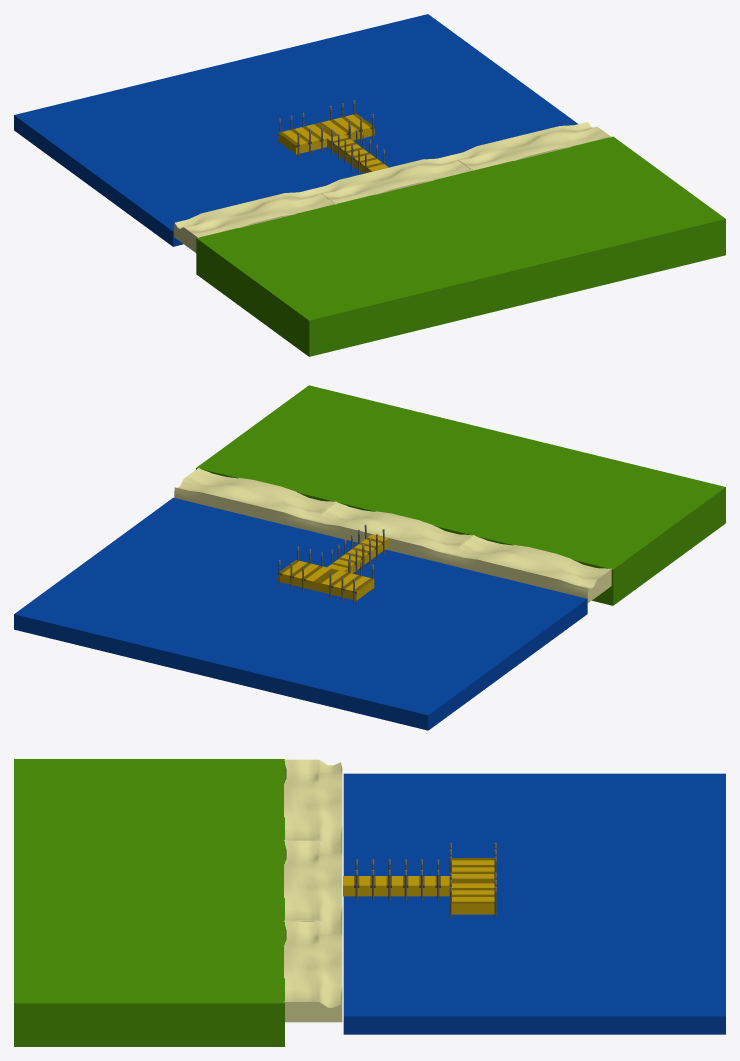
File: DockScene.fbx
3 renders of one model, top to bottom at view 1: azimuth 30°, elevation 25°; view 2: azimuth 150°, elevation 25°; view 3: azimuth 270°, elevation 25°, orthographic. The views are drawn at different scales.
Visible parts, largest first — view 1: Land, Water4, Water2, Water1, Water5, Water3, Water, Sand1, Sand2, Sand, DockBig, Dock; view 2: Land, Water4, Water2, Water1, Water5, Water3, Water, Sand1, Sand2, Sand, DockBig, Dock; view 3: Land, Water3, Water2, Water1, Water5, Water4, Water, Sand2, Sand1, Sand, DockBig, Dock.
Boxes of the visible parts, box(x1,y1,x2,y2) form: Land: box(196, 136, 725, 356); Water4: box(14, 81, 231, 187); Water2: box(290, 14, 507, 105); Water1: box(152, 48, 368, 139); Water5: box(93, 139, 302, 246); Water3: box(370, 72, 577, 157); Water: box(232, 106, 439, 191); Sand1: box(174, 189, 336, 252); Sand2: box(450, 122, 611, 170); Sand: box(313, 155, 473, 203); DockBig: box(278, 113, 374, 154); Dock: box(327, 134, 388, 173); Land: box(196, 385, 725, 605); Water4: box(290, 623, 507, 730); Water2: box(14, 556, 231, 662); Water1: box(152, 590, 369, 696); Water5: box(370, 565, 587, 671); Water3: box(94, 497, 310, 589); Water: box(231, 531, 448, 623); Sand1: box(449, 535, 611, 602); Sand2: box(174, 468, 336, 531); Sand: box(311, 501, 473, 564); DockBig: box(278, 560, 374, 600); Dock: box(327, 534, 388, 573); Land: box(14, 759, 284, 1046); Water3: box(343, 935, 534, 1034); Water2: box(534, 935, 725, 1034); Water1: box(534, 854, 725, 935); Water5: box(343, 773, 534, 854); Water4: box(534, 773, 725, 854); Water: box(343, 854, 534, 935); Sand2: box(284, 920, 342, 1022); Sand1: box(284, 759, 342, 847); Sand: box(284, 840, 342, 927); DockBig: box(451, 858, 494, 914); Dock: box(343, 876, 449, 896).
Size of the model in its own units: 512 by 58.59 by 631.
